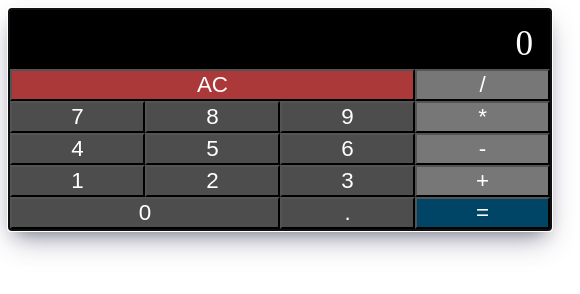
Test: Product Backlog test suite › should have at least 4 decimal places of precision when dividing 2 numbers gives a float result (US#15)
Click the button "2" at {"x": 212, "y": 181}, box [145, 165, 280, 197]
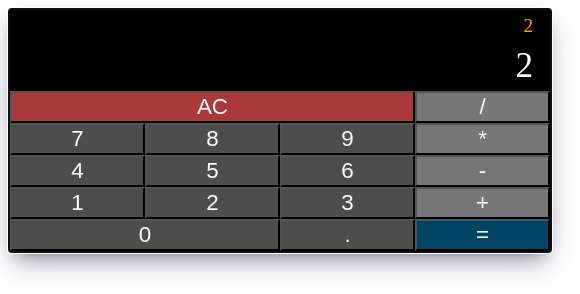
Click the button "/" at {"x": 482, "y": 107}, box [415, 91, 550, 123]
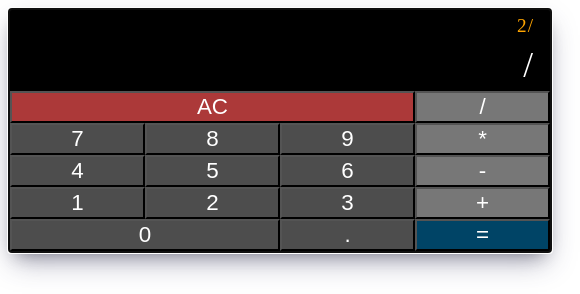
Click the button "7" at {"x": 78, "y": 139}, box [10, 123, 145, 155]
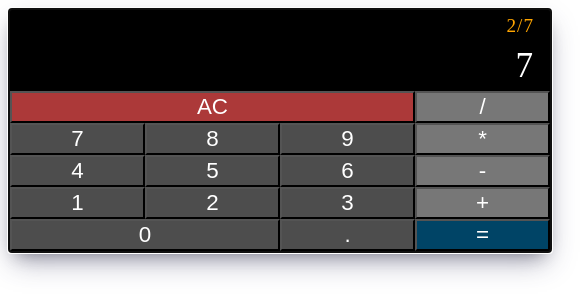
Click the button "=" at {"x": 482, "y": 235}, box [415, 219, 550, 251]
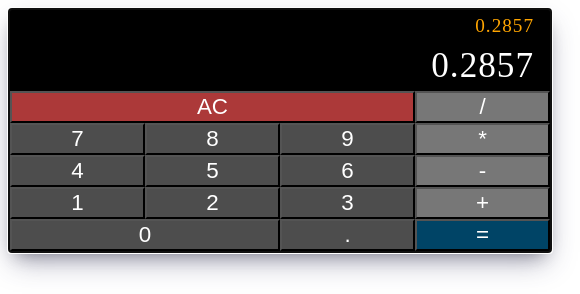
Expected: the text with id "display" reads "0.2857", [431, 46, 534, 85]
